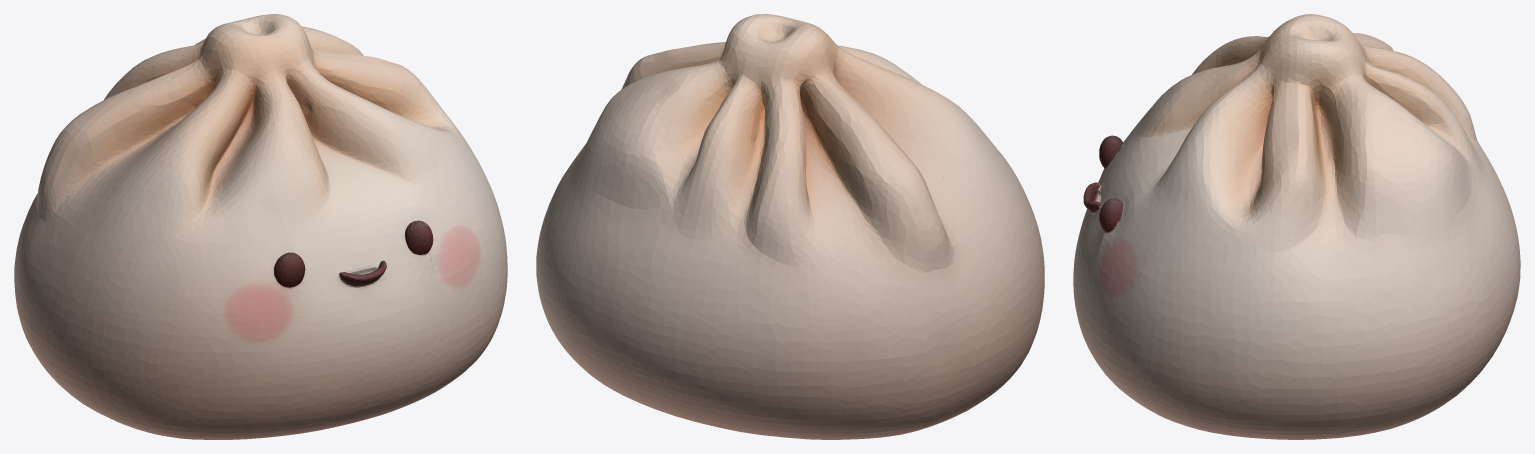
The model's file is dumpling.glb.
3 renders of one model, left to right at view 1: azimuth 30°, elevation 25°; view 2: azimuth 150°, elevation 25°; view 3: azimuth 270°, elevation 25°, orthographic. The views are drawn at different scales.
Visible parts, largest first — view 1: geometry_0; view 2: geometry_0; view 3: geometry_0.
Part boxes in pixels (x1,y1,x2,y2): geometry_0: [14, 14, 507, 439]; geometry_0: [536, 14, 1044, 439]; geometry_0: [1073, 14, 1520, 439].
Bounding box in the file's own units: 0.9987 × 0.7574 × 0.8992.
Materials: 1 (1 with a texture image).
